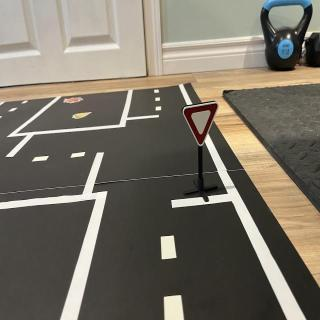sign_yield: (184, 103, 220, 147)
